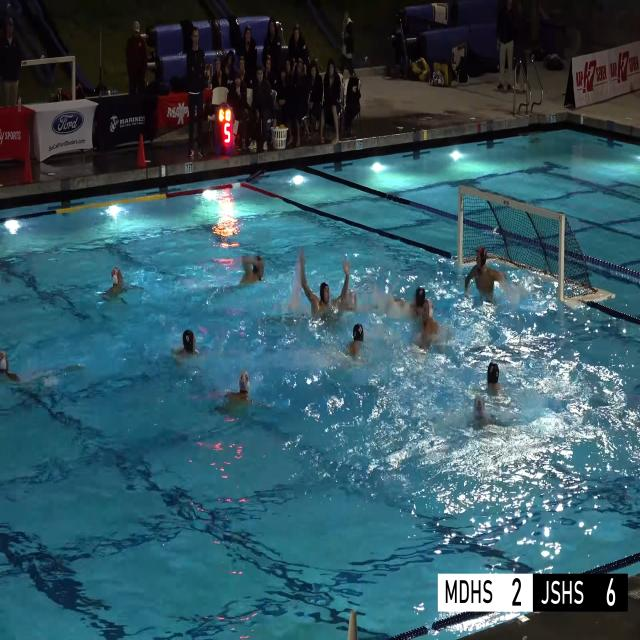ball: (278, 124, 286, 129)
